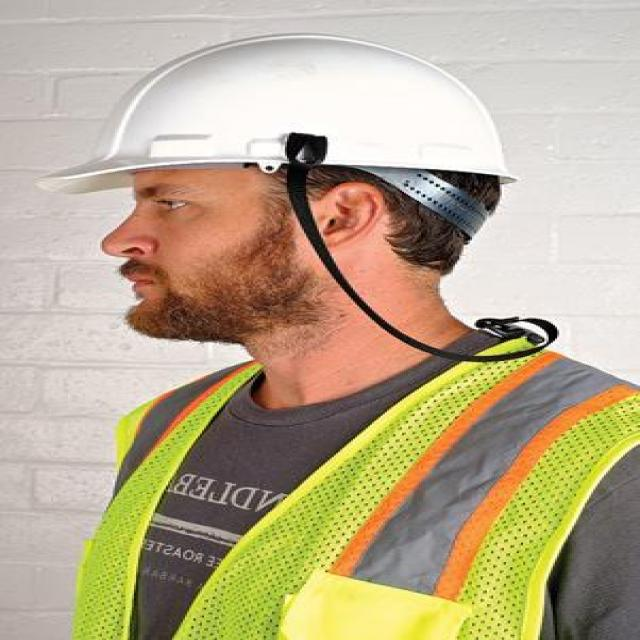Reflective-Jacket: (44, 322, 640, 637)
Safety-Helmet: (51, 36, 527, 193)
